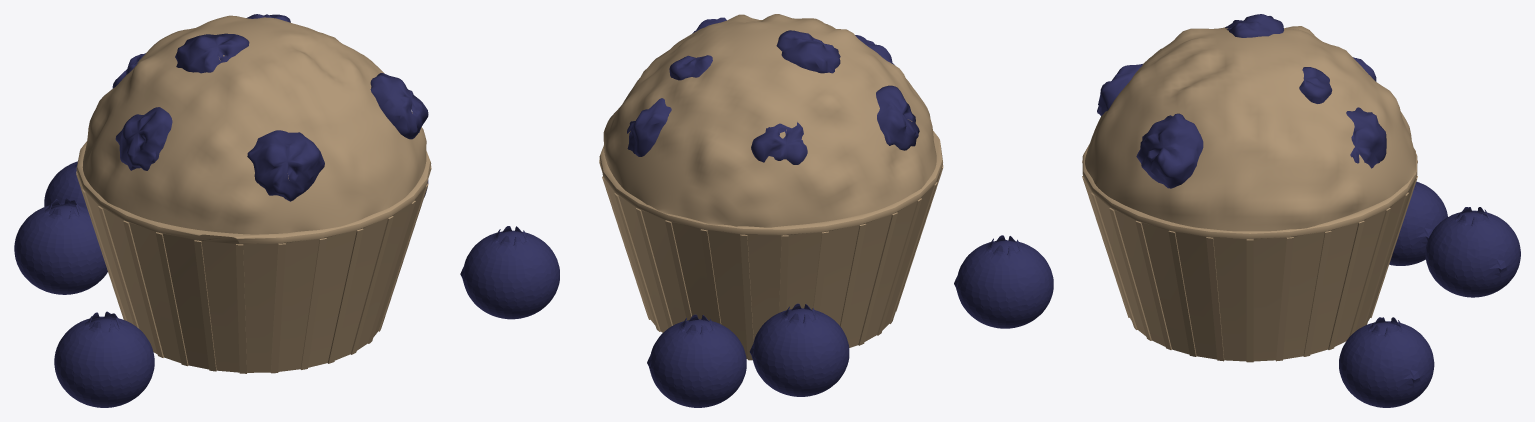
3 renders of one model, left to right at view 1: azimuth 30°, elevation 25°; view 2: azimuth 150°, elevation 25°; view 3: azimuth 270°, elevation 25°, orthographic. The views are drawn at different scales.
Parts seen in each view (by area): view 1: Sphere021, Cylinder002, Sphere022, Sphere030, Sphere027, Sphere020, Sphere026, Sphere019, Sphere023; view 2: Sphere021, Cylinder002, Sphere030, Sphere022, Sphere023, Sphere031, Sphere020, Sphere019, Sphere029, Sphere025, Sphere024; view 3: Sphere021, Cylinder002, Sphere023, Sphere031, Sphere026, Sphere030, Sphere025, Sphere019, Sphere027, Sphere024.
Part boxes in pixels (x1,y1,x2,y2): Sphere021: [82, 15, 426, 234]; Cylinder002: [76, 141, 431, 373]; Sphere022: [54, 311, 154, 407]; Sphere030: [14, 198, 107, 294]; Sphere027: [247, 130, 324, 201]; Sphere020: [115, 107, 172, 170]; Sphere026: [370, 73, 428, 139]; Sphere019: [175, 33, 249, 73]; Sphere023: [44, 161, 86, 207]; Sphere021: [603, 14, 936, 227]; Cylinder002: [599, 131, 943, 360]; Sphere030: [749, 303, 849, 396]; Sphere022: [954, 235, 1053, 328]; Sphere023: [647, 314, 746, 407]; Sphere031: [460, 226, 559, 319]; Sphere020: [876, 85, 919, 150]; Sphere019: [776, 30, 840, 73]; Sphere029: [751, 122, 807, 164]; Sphere025: [627, 98, 671, 156]; Sphere024: [669, 55, 712, 80]; Sphere021: [1085, 26, 1415, 231]; Cylinder002: [1082, 144, 1417, 362]; Sphere023: [1425, 207, 1520, 297]; Sphere031: [1339, 317, 1434, 407]; Sphere026: [1136, 113, 1203, 188]; Sphere030: [1389, 181, 1447, 265]; Sphere025: [1346, 107, 1386, 168]; Sphere019: [1225, 14, 1283, 37]; Sphere027: [1097, 64, 1142, 115]; Sphere024: [1299, 67, 1332, 103].
Bounding box in the file's own units: 7738 × 4499 × 6470.
